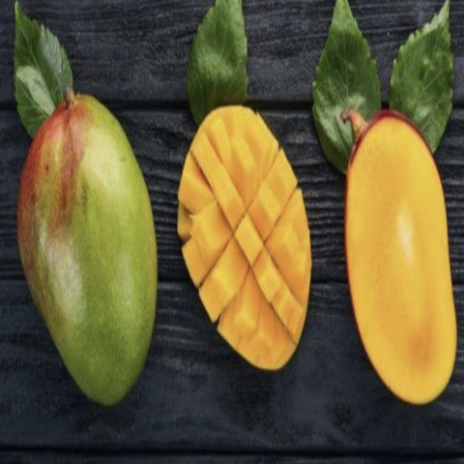mango: (12, 76, 165, 420), (170, 103, 314, 417), (330, 92, 463, 412)
